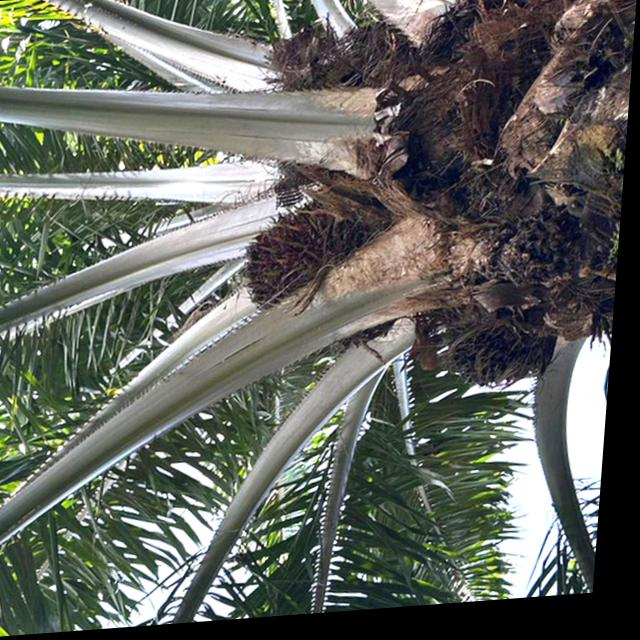ripe: (436, 320, 556, 401), (244, 225, 345, 309)
